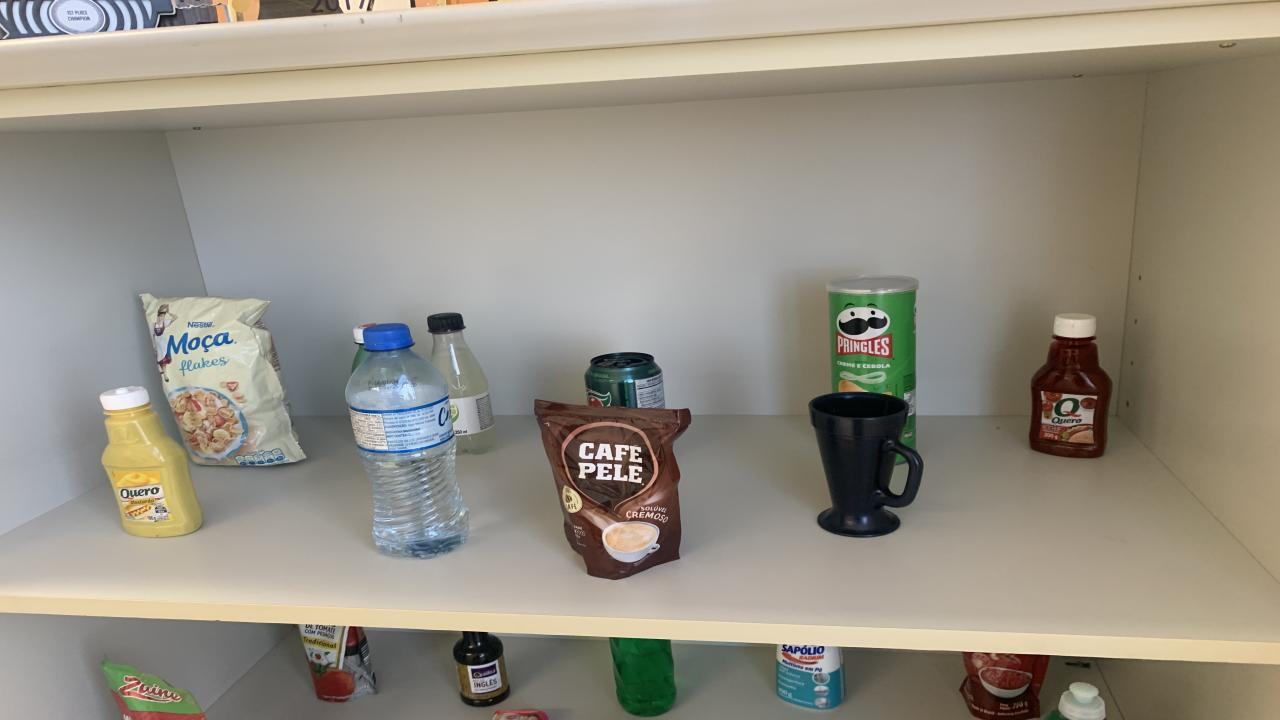Cleaner-Cleanup_Items: (778, 645, 845, 709)
Coffee-Pantry_Items: (535, 399, 690, 579)
Detergent-Cleanup_Items: (610, 638, 675, 716), (1058, 682, 1105, 720)
English_Sauce-Pantry_Items: (452, 632, 510, 707)
Flakes-Snacks: (142, 294, 305, 465)
Guarana_Can-Drinks: (585, 352, 665, 409)
Ketchup-Pantry_Items: (1030, 313, 1112, 458)
Mustard-Pantry_Items: (100, 386, 202, 536)
Pringles-Snacks: (828, 276, 918, 448)
Soda-Drinks: (428, 313, 495, 454)
Tomato_Sauce-Pantry_Items: (102, 660, 205, 720), (300, 624, 378, 703), (960, 652, 1050, 720)
Water_Bottle-Drinks: (345, 324, 468, 557)
